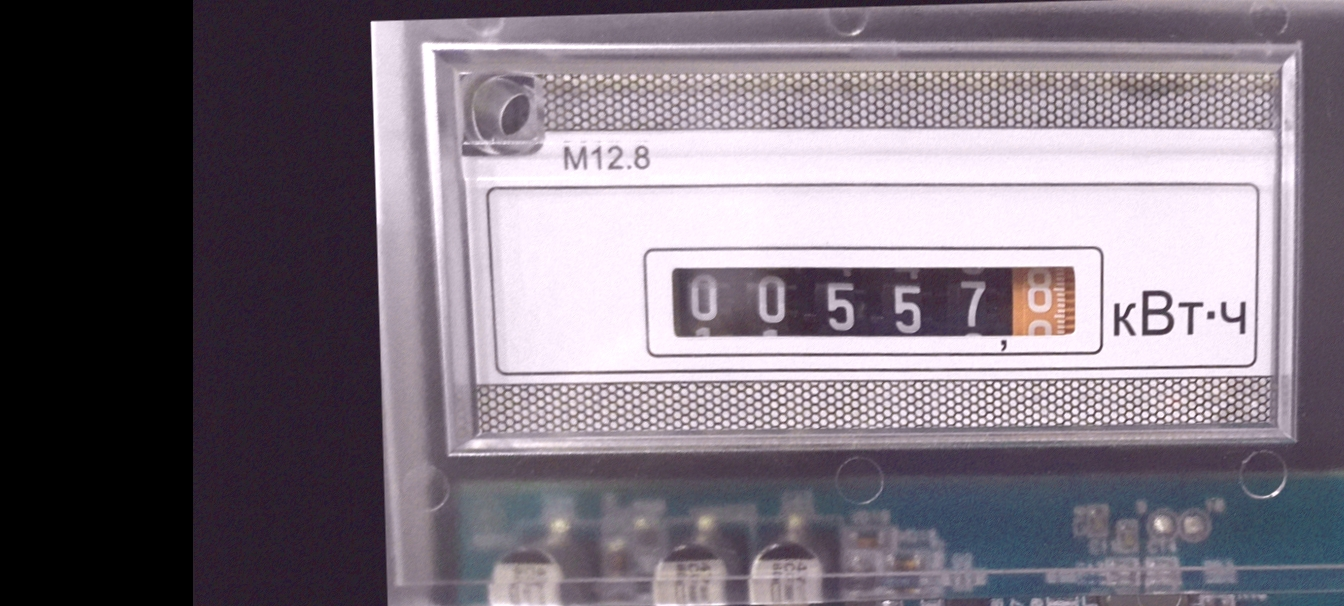0: (687, 269, 723, 326), (755, 273, 790, 326)
5: (889, 278, 929, 337), (823, 277, 859, 335)
7: (955, 276, 989, 331)
8: (1026, 266, 1055, 317)
screen: (640, 228, 1112, 373)
